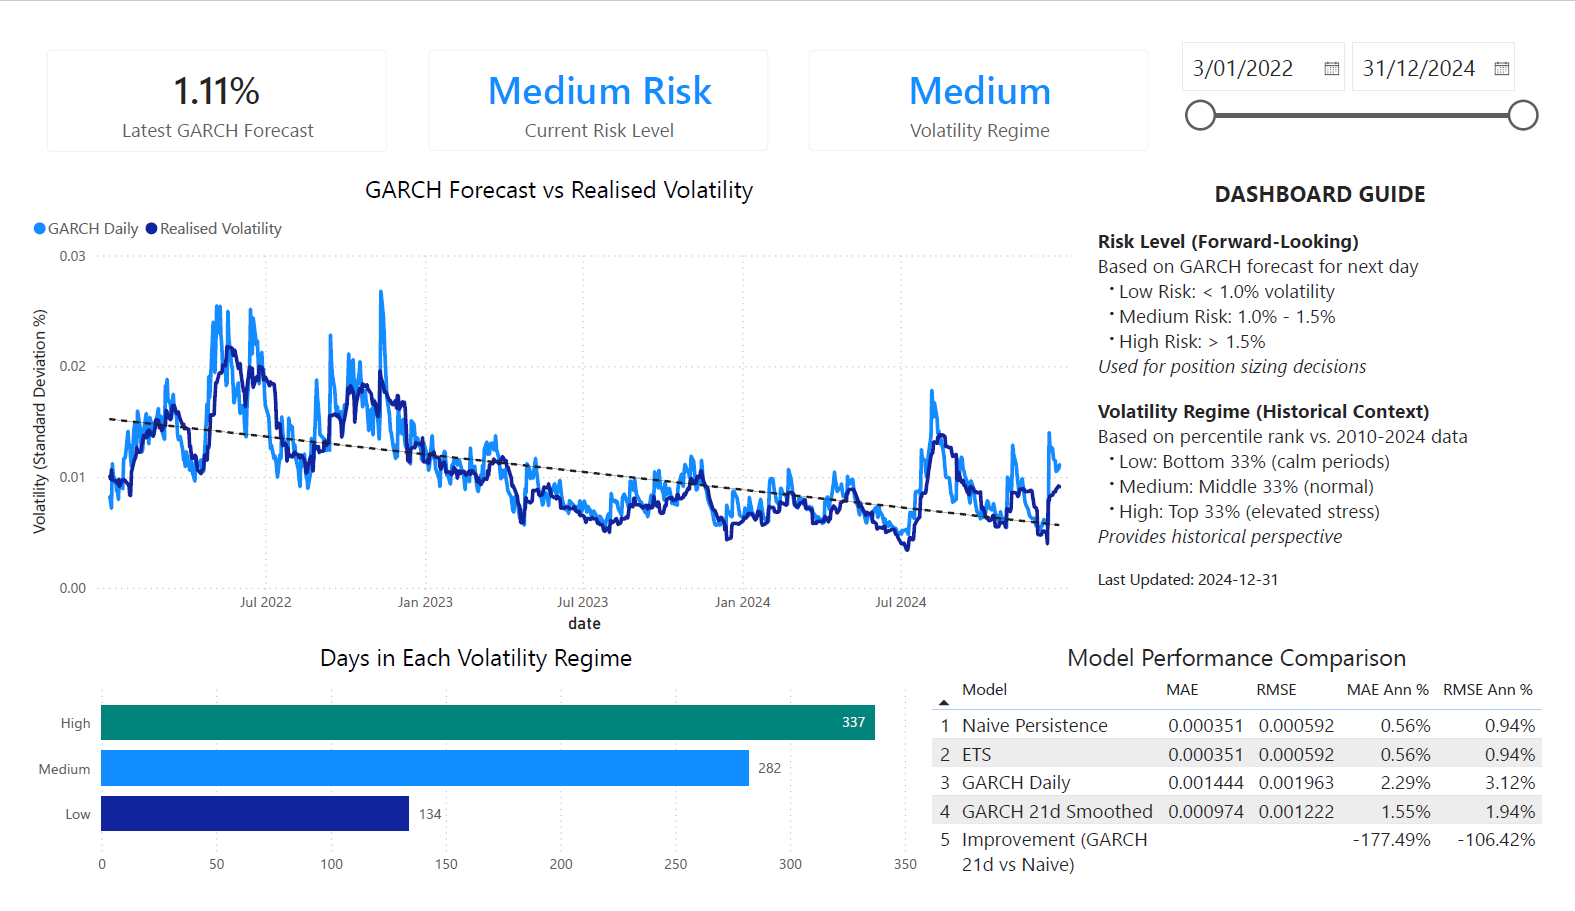

The dashboard page shown, as its layout file describes it:
{"tool":"powerbi","page":{"name":"Dashboard","canvas":[1280,720],"ordinal":0},"visuals":[{"type":"lineChart","title":"GARCH Forecast vs Realised Volatility","fields":{"Category":["volatility_forecasts.date"],"Y":["Sum(volatility_forecasts.garch_forecast)","Sum(volatility_forecasts.realised_volatility)"]},"box":[0,119.9,896,300.3],"z":0},{"type":"cardVisual","title":"Latest GARCH Forecast","fields":{"Data":["Measure Table.Latest Forecast"]},"box":[0,0,320,120],"z":1000},{"type":"cardVisual","title":"Current Risk Level","fields":{"Data":["Measure Table.Latest Risk Level"]},"box":[320.5,0,320.5,119.9],"z":2000},{"type":"cardVisual","title":"Volatility Regime","fields":{"Data":["Measure Table.Current Regime"]},"box":[641,0,320.5,119.9],"z":3000},{"type":"tableEx","title":"Model Performance Comparison","fields":{"Values":["model_performance.model_name","Sum(model_performance.mae)","Sum(model_performance.rmse)"]},"box":[896,119.9,384,161.3],"z":4000},{"type":"clusteredBarChart","title":"Days in Each Volatility Regime","fields":{"Category":["volatility_regimes.regime"],"Y":["CountNonNull(volatility_regimes.date)"]},"box":[0,420.3,896,299.3],"z":5000},{"type":"slicer","fields":{"Values":["volatility_forecasts.date"]},"box":[959.5,0,320.5,119.9],"z":6000},{"type":"textbox","box":[896,281.2,384,438.4],"z":7000}]}

Visuals, with their boxes in screenshot pixels (x1, y1, x2, y2), scaled from the page's 1280x720 canvas onto the 1575x911 screenshot:
"GARCH Forecast vs Realised Volatility" lineChart: {"left": 0, "top": 152, "right": 1102, "bottom": 532}
"Latest GARCH Forecast" cardVisual: {"left": 0, "top": 0, "right": 394, "bottom": 152}
"Current Risk Level" cardVisual: {"left": 394, "top": 0, "right": 789, "bottom": 152}
"Volatility Regime" cardVisual: {"left": 789, "top": 0, "right": 1183, "bottom": 152}
"Model Performance Comparison" tableEx: {"left": 1102, "top": 152, "right": 1574, "bottom": 356}
"Days in Each Volatility Regime" clusteredBarChart: {"left": 0, "top": 532, "right": 1102, "bottom": 910}
slicer - volatility_forecasts.date: {"left": 1181, "top": 0, "right": 1574, "bottom": 152}
textbox: {"left": 1102, "top": 356, "right": 1574, "bottom": 910}
